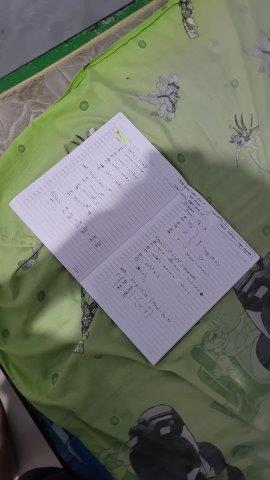kertas: (10, 112, 260, 366)
